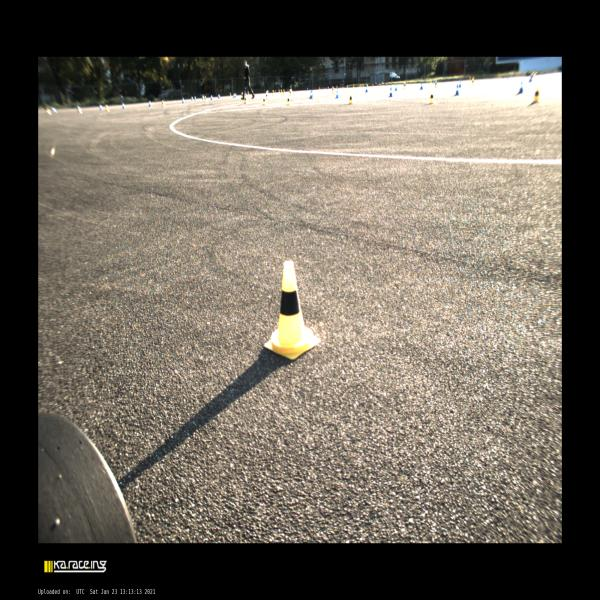blue_cone: (517, 81, 524, 93), (455, 84, 460, 95), (335, 87, 339, 99), (309, 90, 313, 99), (52, 106, 57, 113), (99, 103, 103, 111), (389, 87, 392, 97), (419, 82, 423, 89), (122, 102, 126, 109), (459, 79, 462, 88), (395, 83, 398, 91), (365, 84, 368, 92), (311, 89, 314, 97), (149, 100, 152, 107), (182, 97, 185, 103), (529, 76, 532, 82), (210, 94, 212, 100), (202, 94, 204, 100), (233, 93, 235, 98), (218, 94, 220, 99), (194, 95, 196, 100), (192, 95, 194, 100), (235, 93, 237, 97), (327, 86, 329, 89), (287, 89, 289, 92), (77, 105, 78, 111), (433, 79, 434, 84), (347, 84, 348, 88), (386, 83, 387, 86), (379, 83, 380, 86), (307, 88, 308, 90), (275, 90, 276, 92)
yellow_cone: (264, 260, 320, 360), (532, 87, 540, 104), (428, 92, 434, 104), (532, 71, 538, 80), (46, 108, 52, 115), (348, 94, 352, 104), (262, 96, 266, 106), (105, 104, 110, 112), (78, 107, 83, 114), (286, 97, 290, 104), (162, 100, 165, 108), (244, 95, 246, 104), (266, 91, 268, 100), (404, 81, 406, 89), (332, 86, 334, 94), (472, 77, 474, 85), (290, 89, 292, 96), (204, 95, 206, 102), (435, 81, 437, 88), (469, 76, 471, 82), (283, 89, 285, 95), (248, 91, 250, 97), (241, 92, 243, 98), (360, 83, 362, 88), (272, 90, 274, 95), (362, 84, 364, 88), (278, 89, 280, 93), (336, 85, 338, 88), (230, 92, 231, 98), (267, 89, 268, 95), (281, 89, 282, 94), (430, 80, 431, 84), (372, 84, 374, 86), (353, 84, 354, 88), (319, 86, 320, 90)
